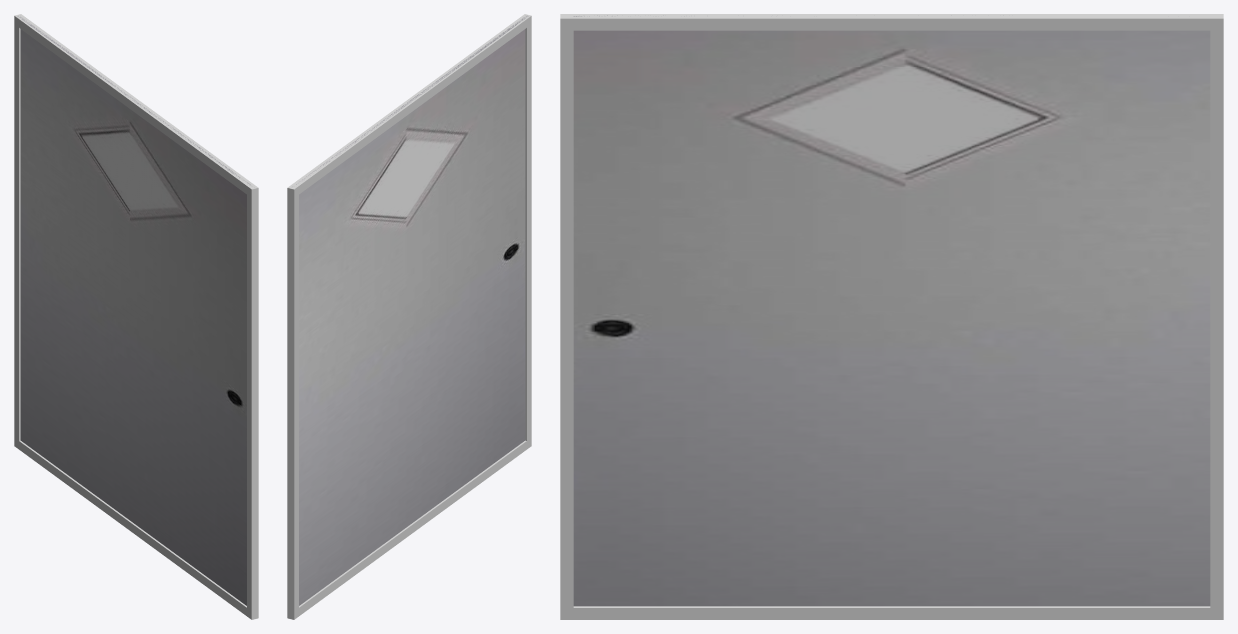
Rendered from ADimaondWindowsDoorLeftKnob.fd916594.gltf.
The picture shows the model from 3 angles, left to right: view 1: azimuth 30°, elevation 25°; view 2: azimuth 150°, elevation 25°; view 3: azimuth 270°, elevation 25°; orthographic projection. The views are drawn at different scales.
Parts seen in each view (by area): view 1: Plane, Cube; view 2: Plane, Cube; view 3: Plane, Cube.
Boxes of the visible parts, bbox=[...] form: Plane: bbox=[17, 16, 250, 605]; Cube: bbox=[14, 14, 258, 619]; Plane: bbox=[292, 15, 528, 605]; Cube: bbox=[287, 14, 531, 619]; Plane: bbox=[573, 15, 1210, 606]; Cube: bbox=[560, 14, 1223, 619].
Bounding box in the file's own units: 0.1 × 6 × 6.
1 material, 1 textured.
